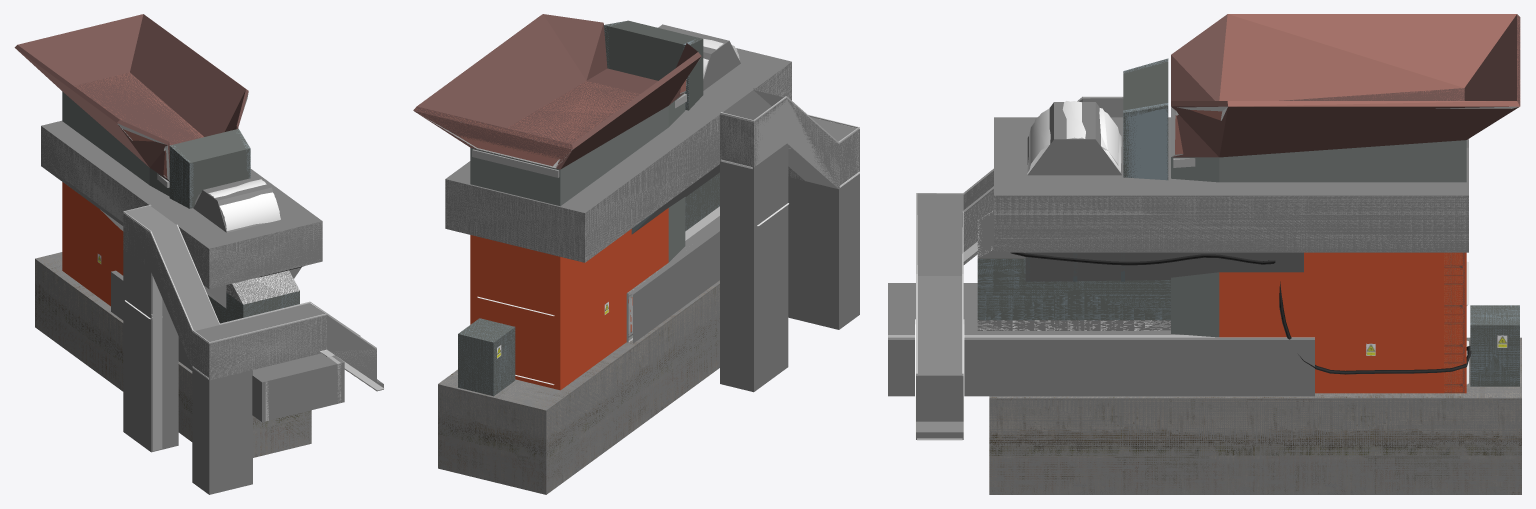
File: s_quarry_crusher_01.dae
3 renders of one model, left to right at view 1: azimuth 30°, elevation 25°; view 2: azimuth 150°, elevation 25°; view 3: azimuth 270°, elevation 25°, orthographic. The views are drawn at different scales.
Visible parts, largest first — view 1: Colmesh-1, s_quarry_crusher1_a150, s_quarry_crusher1_a300; view 2: Colmesh-1, s_quarry_crusher1_a150, s_quarry_crusher1_a300; view 3: Colmesh-1, s_quarry_crusher1_a150, s_quarry_crusher1_a300.
Boxes of the visible parts, box(x1,y1,x2,y2) form: Colmesh-1: box(14, 14, 383, 494); s_quarry_crusher1_a150: box(35, 69, 340, 457); s_quarry_crusher1_a300: box(41, 92, 384, 450); Colmesh-1: box(413, 14, 859, 494); s_quarry_crusher1_a150: box(414, 15, 859, 494); s_quarry_crusher1_a300: box(421, 20, 859, 384); Colmesh-1: box(888, 14, 1521, 494); s_quarry_crusher1_a150: box(890, 14, 1521, 494); s_quarry_crusher1_a300: box(888, 59, 1518, 440).
Bounding box in the file's own units: 5.04 × 11.1 × 7.89.
